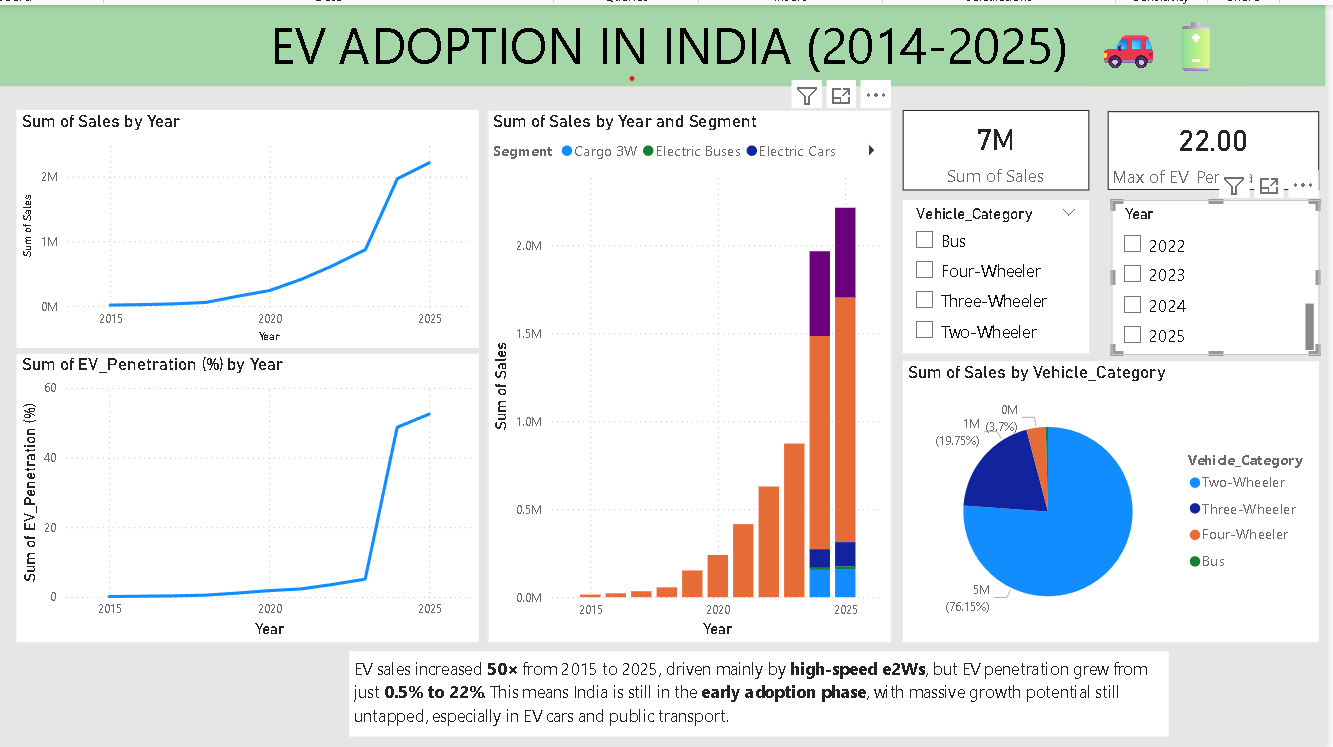

The dashboard page shown, as its layout file describes it:
{"tool":"powerbi","page":{"name":"Page 1","canvas":[1280,720],"ordinal":0},"visuals":[{"type":"lineChart","title":"Sum of Sales by Year","fields":{"Category":["Indian_EV_Sales_2015_2025.Year"],"Y":["Sum(Indian_EV_Sales_2015_2025.Sales_Quantity)"]},"box":[16.9,101.3,446.4,229.2],"z":0},{"type":"lineChart","fields":{"Category":["Indian_EV_Sales_2015_2025.Year"],"Y":["Sum(Indian_EV_Sales_2015_2025.EV_Penetration (%))"]},"box":[16.9,336.6,446.4,278.7],"z":1000},{"type":"card","fields":{"Values":["Sum(Indian_EV_Sales_2015_2025.Sales_Quantity)"]},"box":[872.3,101.3,179.8,77.2],"z":2000},{"type":"card","fields":{"Values":["Max(Indian_EV_Sales_2015_2025.EV_Penetration (%))"]},"box":[1070.1,102.5,203.9,76],"z":3000},{"type":"slicer","fields":{"Values":["Indian_EV_Sales_2015_2025.Vehicle_Category"]},"box":[872.3,188.2,179.8,148.4],"z":4000},{"type":"textbox","box":[0,0,1280,78.4],"z":5000},{"type":"pieChart","fields":{"Category":["Indian_EV_Sales_2015_2025.Vehicle_Category"],"Y":["Sum(Indian_EV_Sales_2015_2025.Sales_Quantity)"]},"box":[872.3,343.8,401.7,271.4],"z":6000},{"type":"columnChart","fields":{"Category":["Indian_EV_Sales_2015_2025.Year"],"Series":["Indian_EV_Sales_2015_2025.Segment"],"Y":["Sum(Indian_EV_Sales_2015_2025.Sales_Quantity)"]},"box":[471.7,101.3,389.7,513.9],"z":7000},{"type":"textbox","box":[337.8,623.7,791.4,82],"z":8000},{"type":"textbox","box":[1052,0,153.2,78.4],"z":9000},{"type":"slicer","fields":{"Values":["Indian_EV_Sales_2015_2025.Year"]},"box":[1073.7,188.2,200.3,149.6],"z":9001}]}

Visuals, with their boxes on the page's 1280x720 design canvas (x1, y1, x2, y2). These are canvas units, not pixel positions in the 1333x747 screenshot, which may show the page scaled, cropped or inside an application window:
"Sum of Sales by Year" lineChart: Rect(17, 101, 463, 330)
lineChart - Indian_EV_Sales_2015_2025.Year x Sum(Indian_EV_Sales_2015_2025.EV_Penetration (%)): Rect(17, 337, 463, 615)
card - Sum(Indian_EV_Sales_2015_2025.Sales_Quantity): Rect(872, 101, 1052, 178)
card - Max(Indian_EV_Sales_2015_2025.EV_Penetration (%)): Rect(1070, 102, 1274, 178)
slicer - Indian_EV_Sales_2015_2025.Vehicle_Category: Rect(872, 188, 1052, 337)
textbox: Rect(0, 0, 1280, 78)
pieChart - Indian_EV_Sales_2015_2025.Vehicle_Category x Sum(Indian_EV_Sales_2015_2025.Sales_Quantity): Rect(872, 344, 1274, 615)
columnChart - Indian_EV_Sales_2015_2025.Year x Indian_EV_Sales_2015_2025.Segment: Rect(472, 101, 861, 615)
textbox: Rect(338, 624, 1129, 706)
textbox: Rect(1052, 0, 1205, 78)
slicer - Indian_EV_Sales_2015_2025.Year: Rect(1074, 188, 1274, 338)
